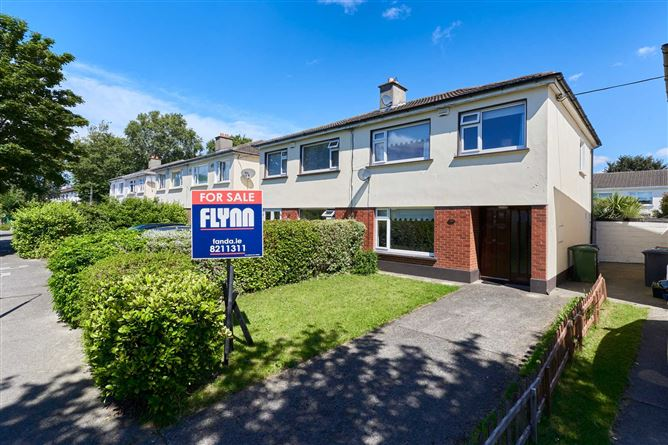property sign: (177, 177, 272, 270)
